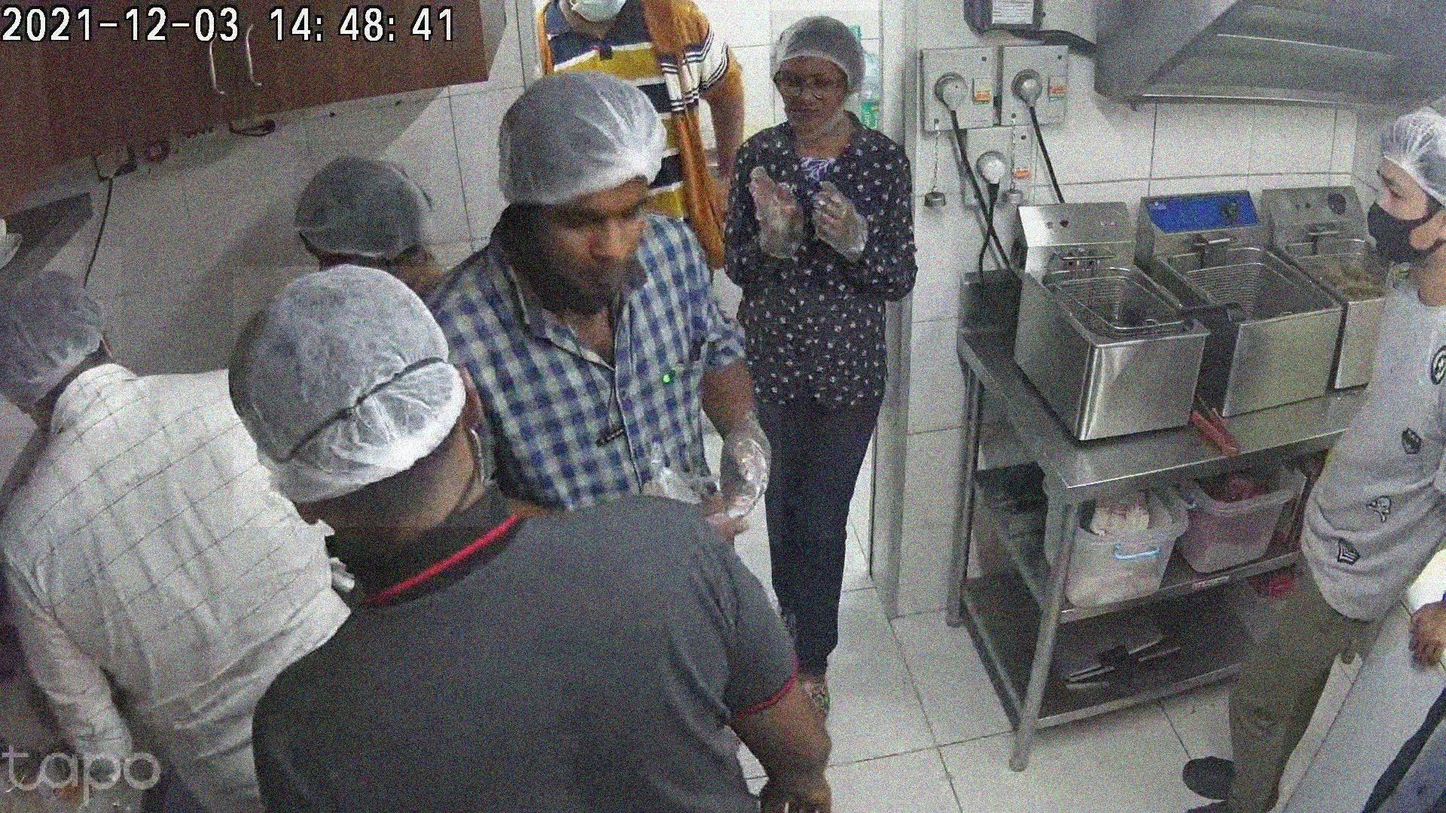apron: (794, 146, 897, 294), (739, 149, 811, 284)
gloves: (234, 266, 492, 527), (488, 66, 706, 232), (0, 247, 121, 428), (294, 142, 432, 274), (769, 11, 885, 107), (1366, 91, 1446, 224)
mask: (1369, 173, 1429, 267)
no_apron: (699, 402, 781, 544), (751, 754, 851, 813), (1411, 583, 1446, 697)
no_hairnet: (531, 174, 642, 289), (780, 46, 839, 136)
